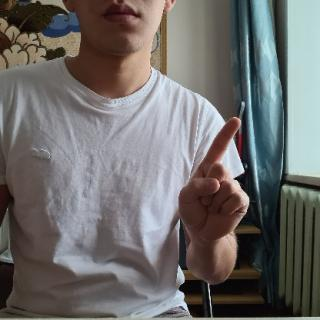BAA: (175, 114, 253, 248)
